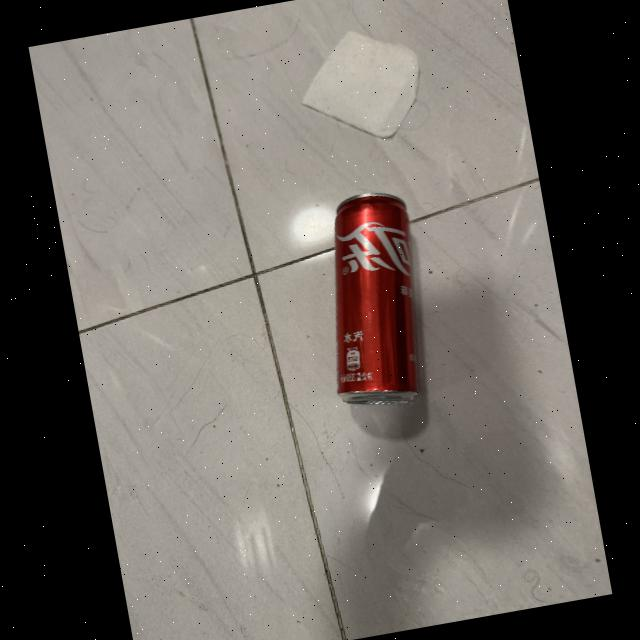Cola: (290, 174, 450, 418)
